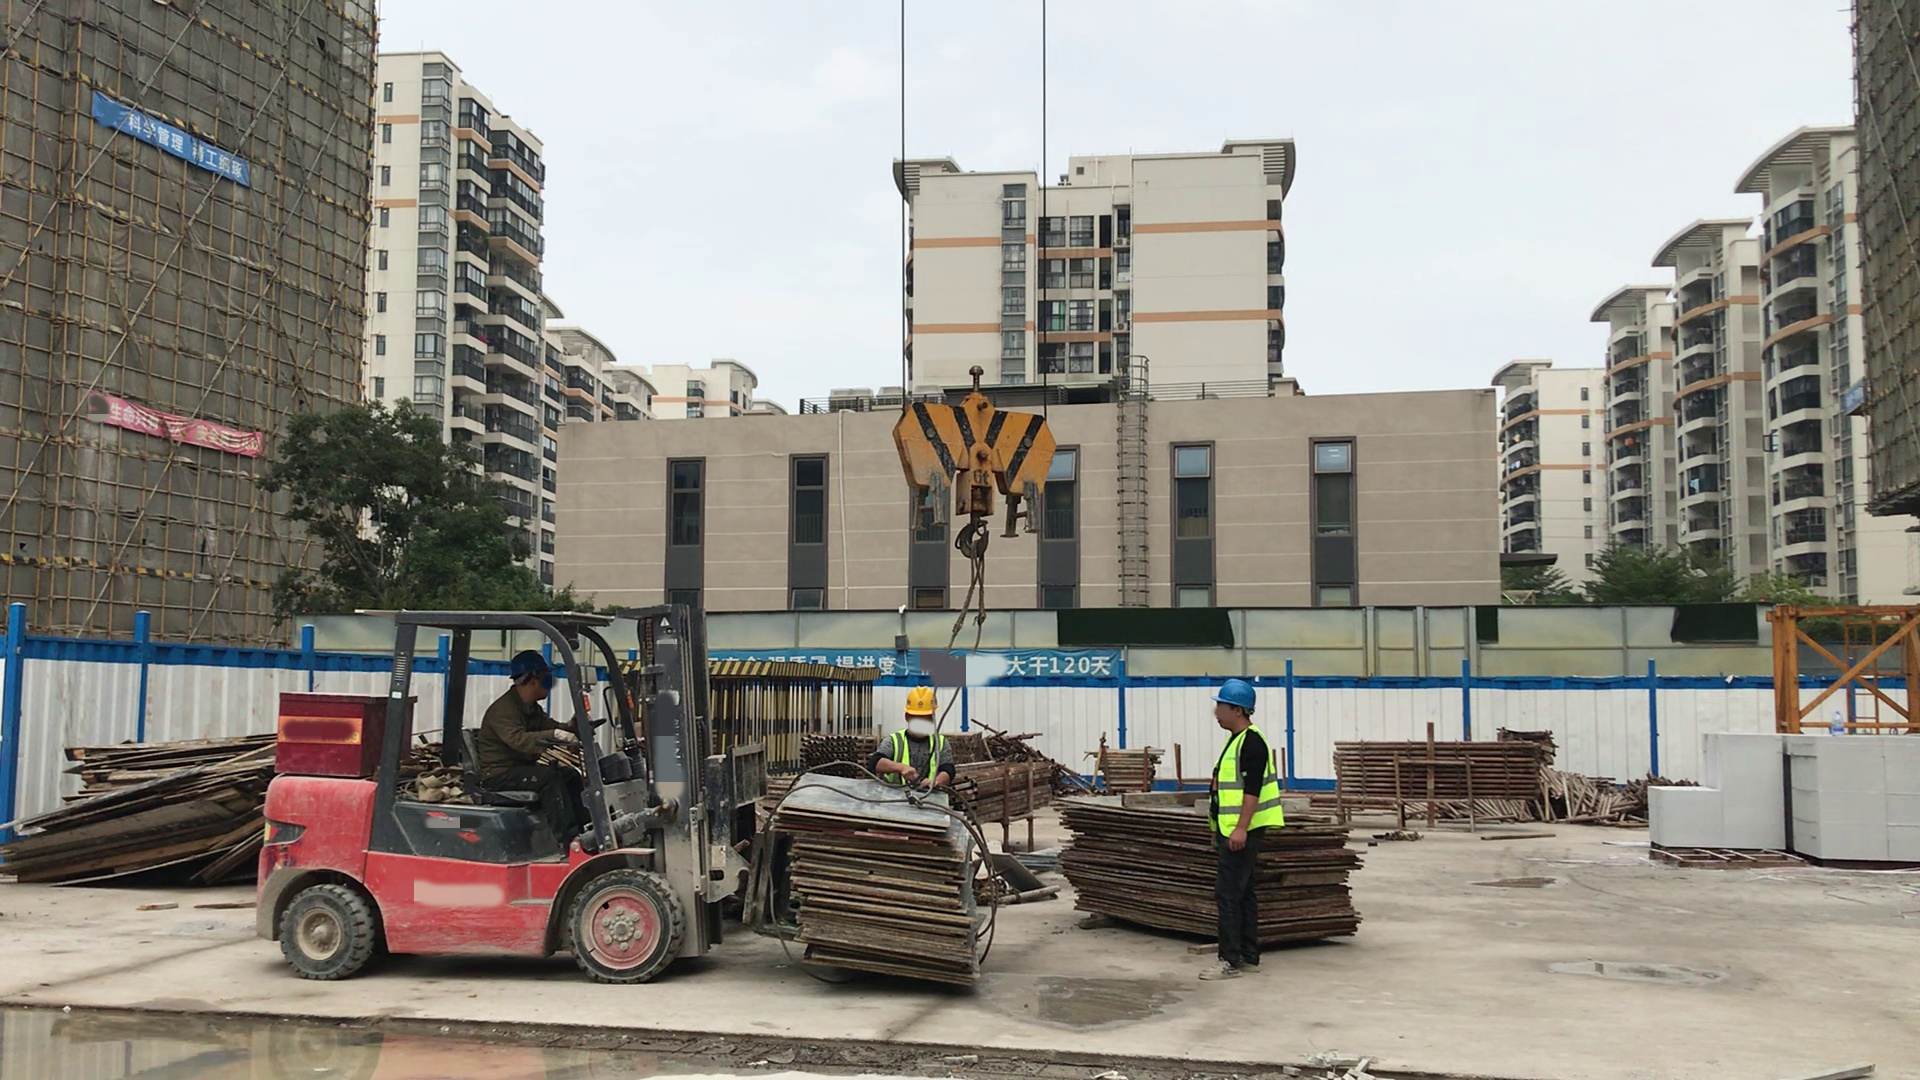board: (785, 752, 986, 1023), (1062, 775, 1347, 958), (28, 712, 288, 891), (1329, 726, 1562, 834)
brick: (1644, 713, 1920, 869)
helmet: (1211, 683, 1260, 701), (512, 652, 549, 669), (904, 690, 933, 711)
hook: (897, 352, 1055, 569)
person: (1192, 669, 1275, 985), (486, 635, 586, 849), (885, 682, 958, 827)
slogan: (73, 75, 275, 190), (85, 386, 304, 476), (680, 652, 1130, 689)
vest: (1210, 734, 1284, 832), (884, 711, 943, 793)
